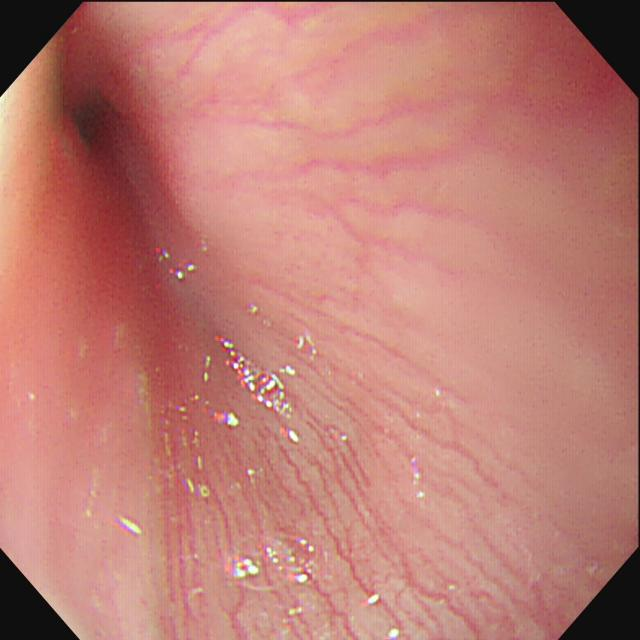T: (228, 532, 319, 597)
U: (201, 332, 320, 431), (150, 239, 210, 281)
